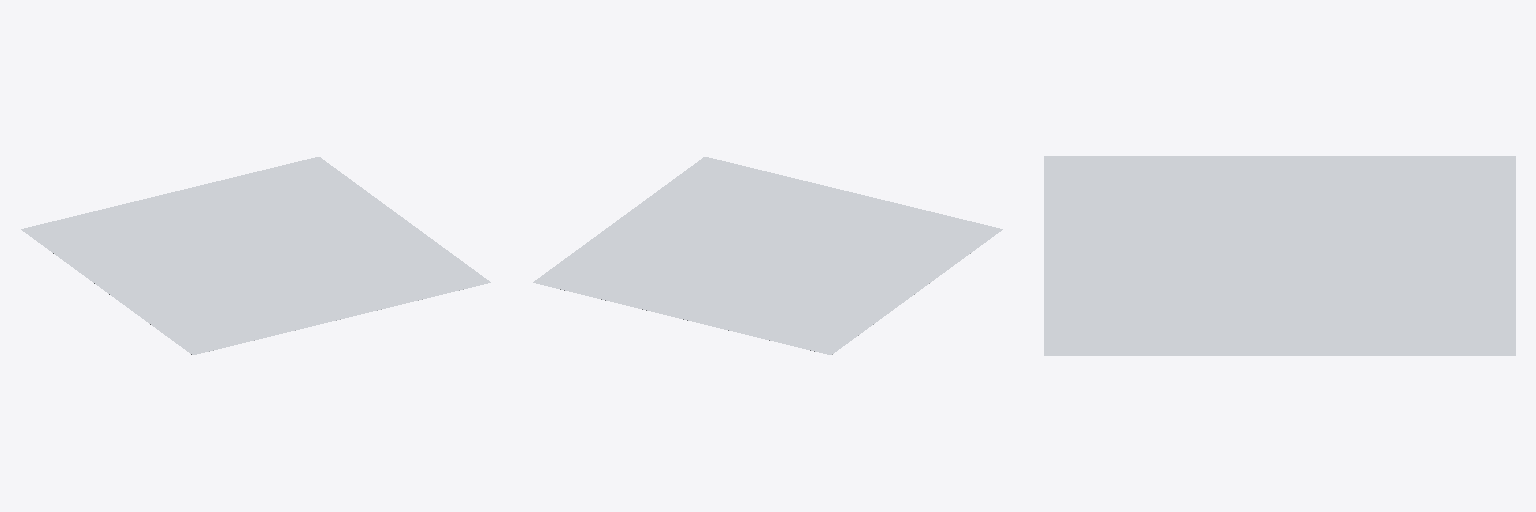
robot.urdf — simpleplane:
<?xml version="1.0"?> 
<robot name="simpleplane">
    <!-- Colors --> 
    <material name="grey"> 
        <color rgba="0.91 0.925 0.945 1"/>
    </material>

    <!-- Plane -->
    <link name="base_link">
        <visual> 
            <geometry> 
                <box size="80 80 0.01"/>
                <origin rpy="0 0 0" xyz="-10 -10 -0.005"/>
            </geometry>
            <material name="grey"/>
        </visual>
        <collision> 
             <geometry> 
                <box size="80 80 0.01"/>
                <origin rpy="0 0 0" xyz="-10 -10 -0.005"/>
            </geometry>
        </collision> 
        <inertial> 
            <mass value="0"/>
            <inertia ixx="0" ixy="0" ixz="0" iyy="0" iyz="0" izz="0"/>
        </inertial> 
        <contact> 
            <lateral_friction value="4"/>
        </contact>
    </link> 
</robot>

--- Render facts (derived) ---
Views: 3 orthographic renders of the robot side by side, from view 1: azimuth 30°, elevation 25°; view 2: azimuth 150°, elevation 25°; view 3: azimuth 270°, elevation 25°.
Model simpleplane with 1 links and 0 joints (none), rooted at base_link, posed every joint at zero.
Visible links, largest first — view 1: base_link; view 2: base_link; view 3: base_link.
Link boxes in pixels (x1,y1,x2,y2): base_link: [21, 157, 490, 354]; base_link: [533, 157, 1002, 354]; base_link: [1044, 156, 1515, 355].
Size in the robot's own frame: 80 by 80 by 0.01 metres.
Geometry: primitives only (box / cylinder / sphere), no mesh files.
